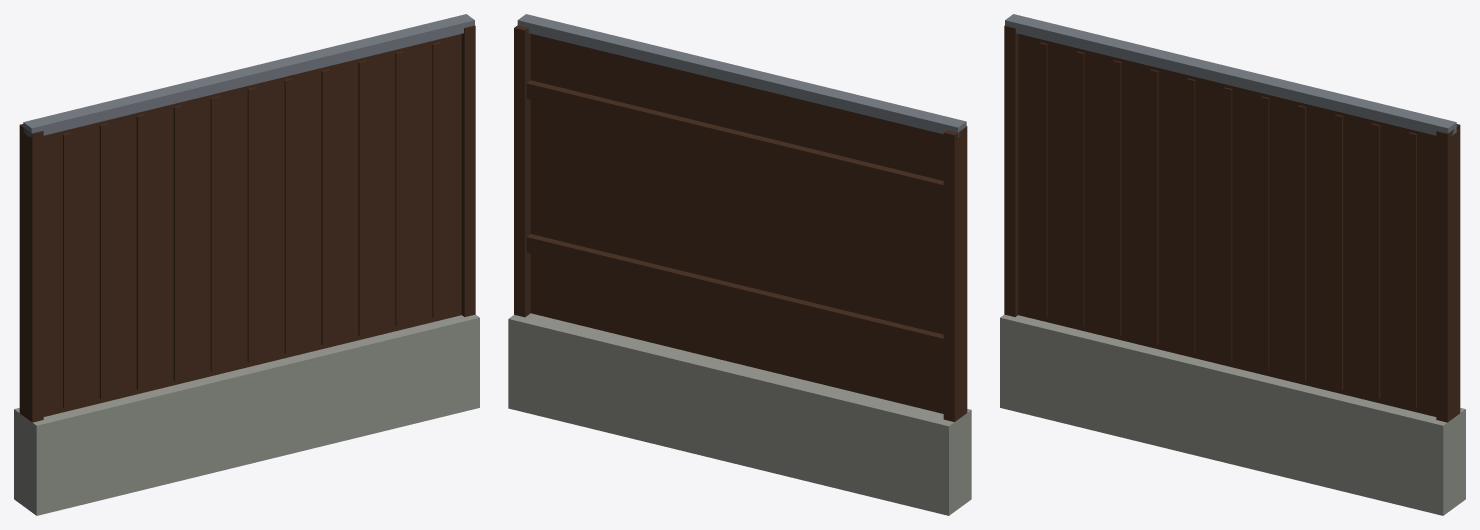
File: fence-w1_close.fbx
The picture shows the model from 3 angles, left to right: view 1: azimuth 30°, elevation 25°; view 2: azimuth 150°, elevation 25°; view 3: azimuth 330°, elevation 25°; orthographic projection.
Visible parts, largest first — view 1: a2000/0/fence-w1_close; view 2: a2000/0/fence-w1_close; view 3: a2000/0/fence-w1_close.
Boxes of the visible parts, x1,y1,x2,y2 form: a2000/0/fence-w1_close: (14, 14, 479, 515); a2000/0/fence-w1_close: (508, 14, 971, 515); a2000/0/fence-w1_close: (1000, 14, 1465, 515).
Bounding box in the file's own units: 1.8 × 1.49 × 0.16.
